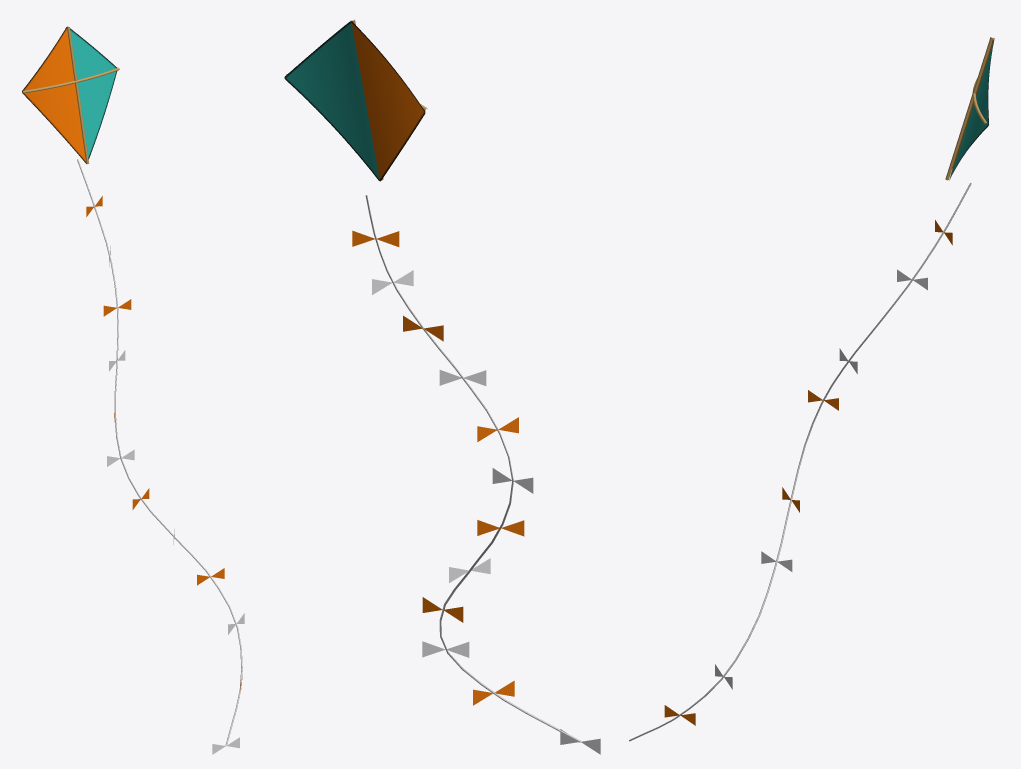
The model's file is pipa-6.glb.
3 views of the same model, side by side, from view 1: azimuth 30°, elevation 25°; view 2: azimuth 150°, elevation 25°; view 3: azimuth 270°, elevation 25° (orthographic). The views are drawn at different scales.
Parts seen in each view (by area): view 1: pipa-6; view 2: pipa-6; view 3: pipa-6.
Part boxes in pixels (<box>): pipa-6: <box>22,26,244,754</box>; pipa-6: <box>284,19,600,754</box>; pipa-6: <box>629,37,994,741</box>.
Size of the model in its own units: 1.06 by 5.5 by 2.66.
Materials: 5 (1 with a texture image).
